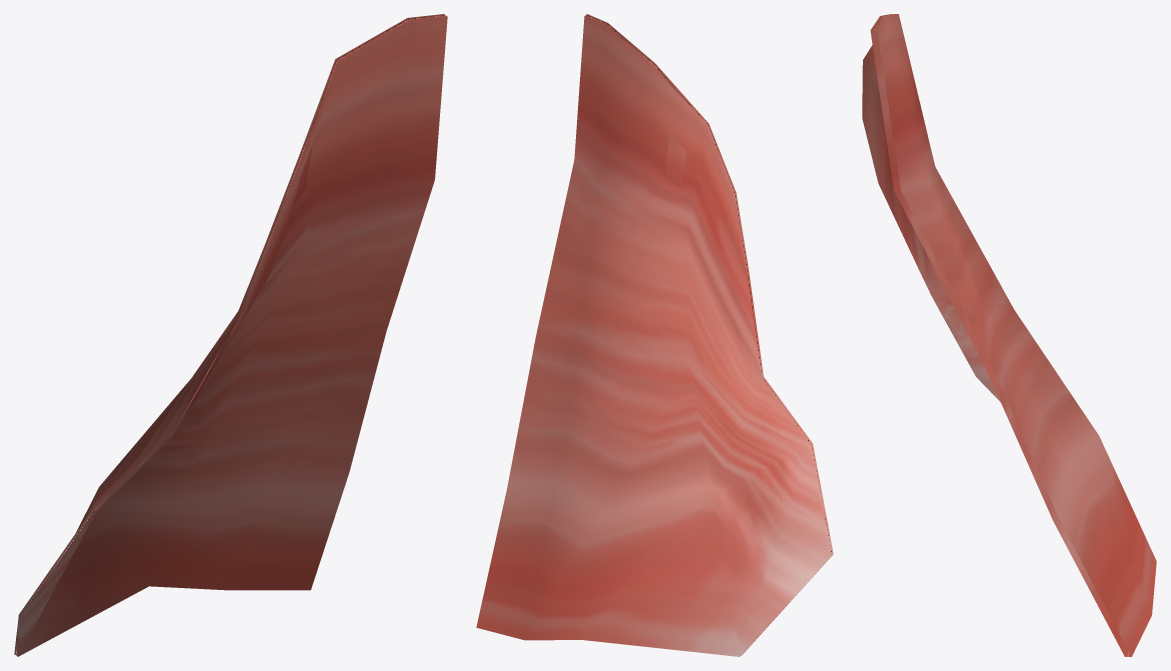
File: Trapezius_Muscle_Right.obj
The picture shows the model from 3 angles, left to right: view 1: azimuth 30°, elevation 25°; view 2: azimuth 150°, elevation 25°; view 3: azimuth 270°, elevation 25°; orthographic projection. The views are drawn at different scales.
Parts seen in each view (by area): view 1: polySurface2 Trapezius_Muscle:pCube3; view 2: polySurface2 Trapezius_Muscle:pCube3; view 3: polySurface2 Trapezius_Muscle:pCube3.
Boxes of the visible parts, x1,y1,x2,y2 form: polySurface2 Trapezius_Muscle:pCube3: (14,14,447,656); polySurface2 Trapezius_Muscle:pCube3: (476,14,833,656); polySurface2 Trapezius_Muscle:pCube3: (862,14,1156,656).
Size of the model in its own units: 1.09 by 1.91 by 0.8143.
